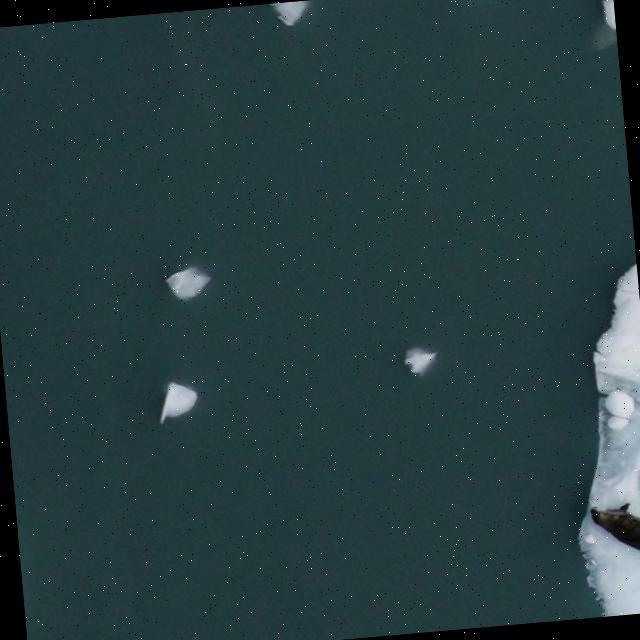seal: (589, 505, 640, 550)
